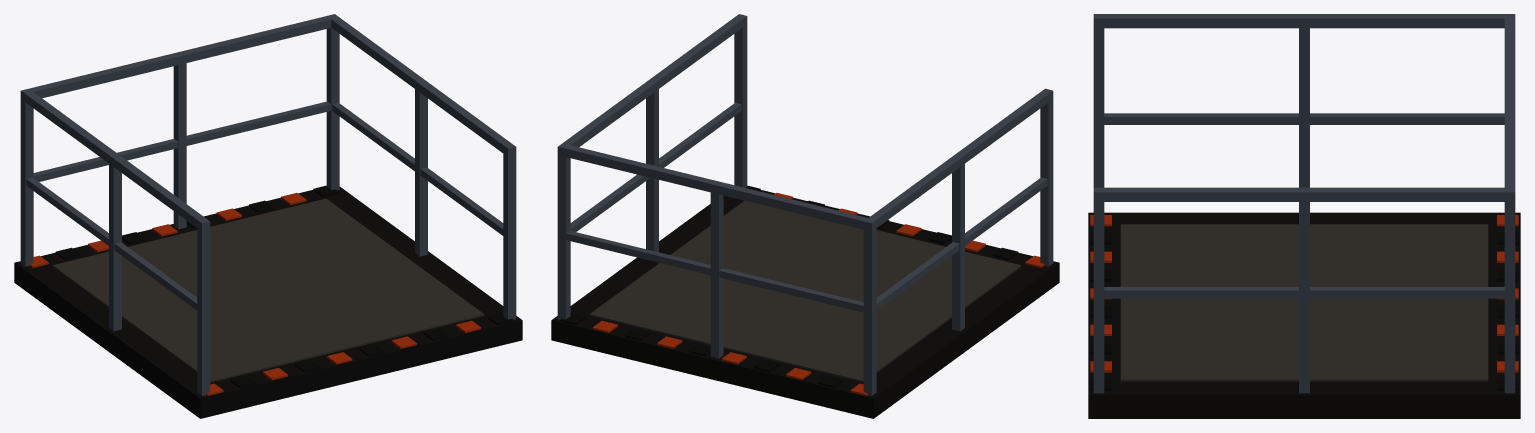
File: SM_Lift_2x2_Hideout.glb
The picture shows the model from 3 angles, left to right: view 1: azimuth 30°, elevation 25°; view 2: azimuth 150°, elevation 25°; view 3: azimuth 270°, elevation 25°; orthographic projection. The views are drawn at different scales.
Parts seen in each view (by area): view 1: SM_Lift_2x2_Hideout-col; view 2: SM_Lift_2x2_Hideout-col; view 3: SM_Lift_2x2_Hideout-col.
Part boxes in pixels (left/top/right/bottom): SM_Lift_2x2_Hideout-col: left=14, top=14, right=522, bottom=418; SM_Lift_2x2_Hideout-col: left=551, top=14, right=1059, bottom=418; SM_Lift_2x2_Hideout-col: left=1088, top=14, right=1520, bottom=418.
Bounding box in the file's own units: 2 × 1.14 × 2.
